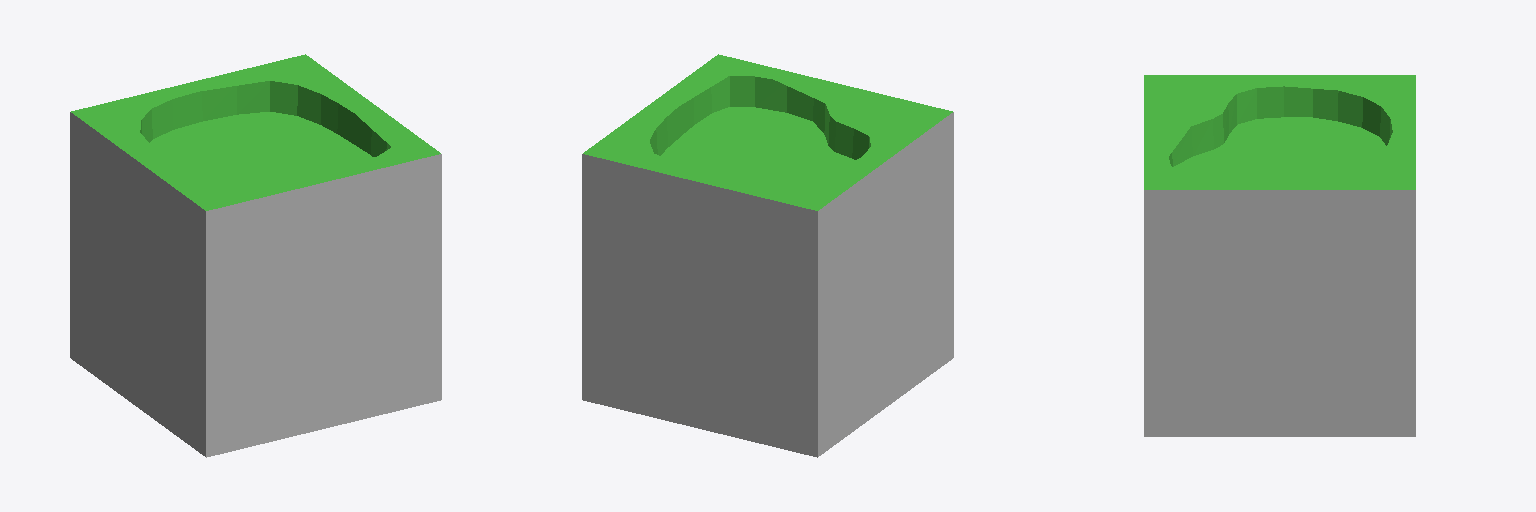
The model's file is pond_ground.obj.
The picture shows the model from 3 angles: view 1: azimuth 30°, elevation 25°; view 2: azimuth 150°, elevation 25°; view 3: azimuth 270°, elevation 25°; orthographic projection.
Visible parts, largest first — view 1: Cube.008; view 2: Cube.008; view 3: Cube.008.
Part boxes in pixels (bbox=[...]): Cube.008: bbox=[70, 54, 441, 457]; Cube.008: bbox=[582, 54, 953, 457]; Cube.008: bbox=[1144, 75, 1415, 436].
Size of the model in its own units: 2 by 2 by 2.